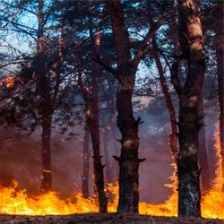fire: (1, 165, 224, 220)
